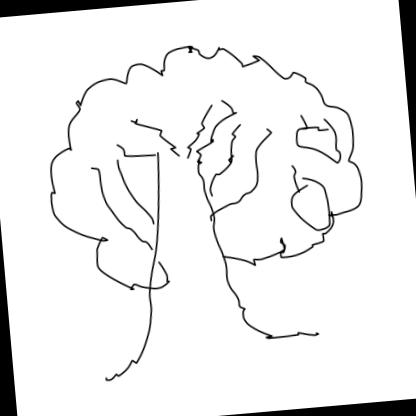branch_line: (85, 97, 281, 250)
crown_dizzy: (35, 35, 369, 300)
